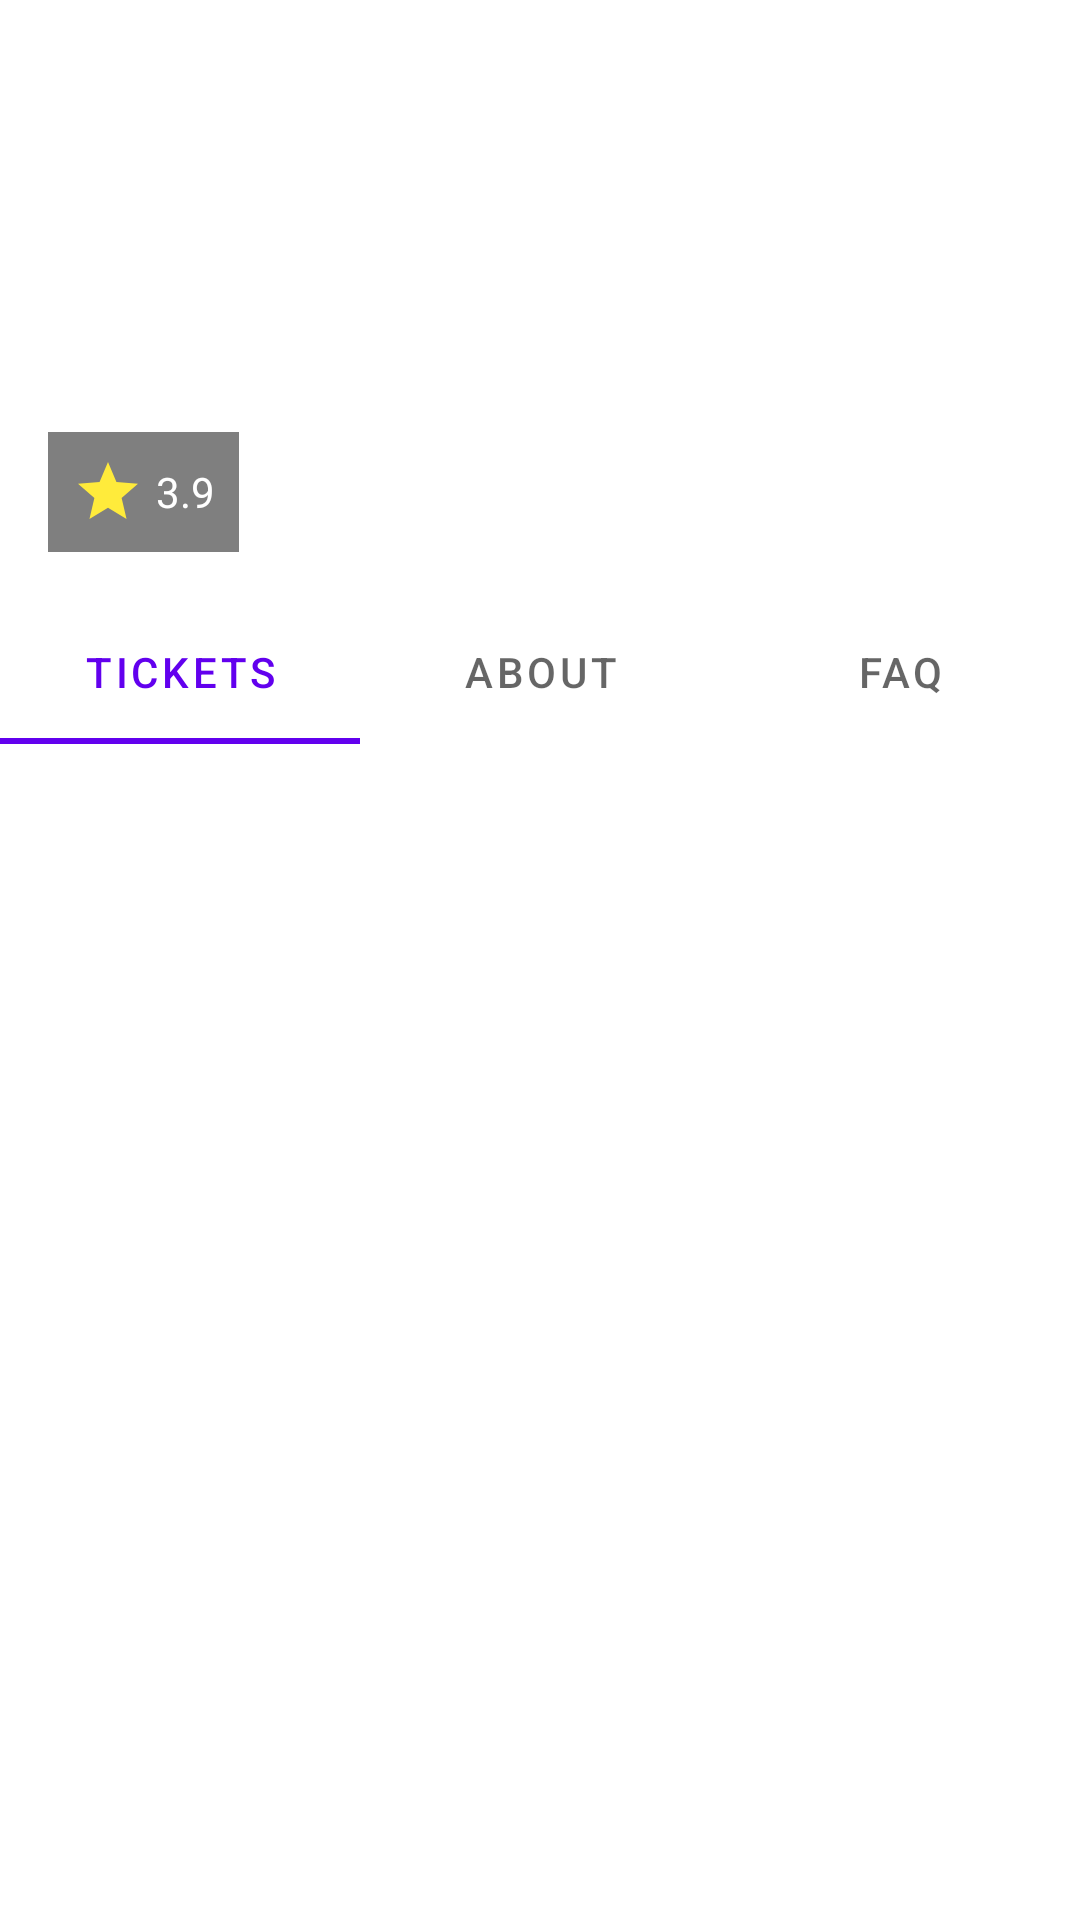

Icon bounding boxes for this 1080 × 1920 phone screenshot, format bbox=(x1, y1, x2, y2):
star: bbox=(78, 462, 138, 519)
